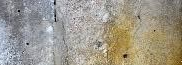Corrosion: (83, 1, 182, 65)
